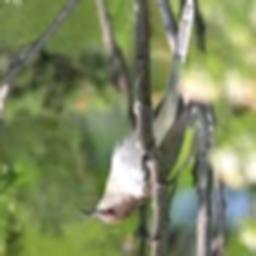Cuckoo: (78, 0, 196, 225)
